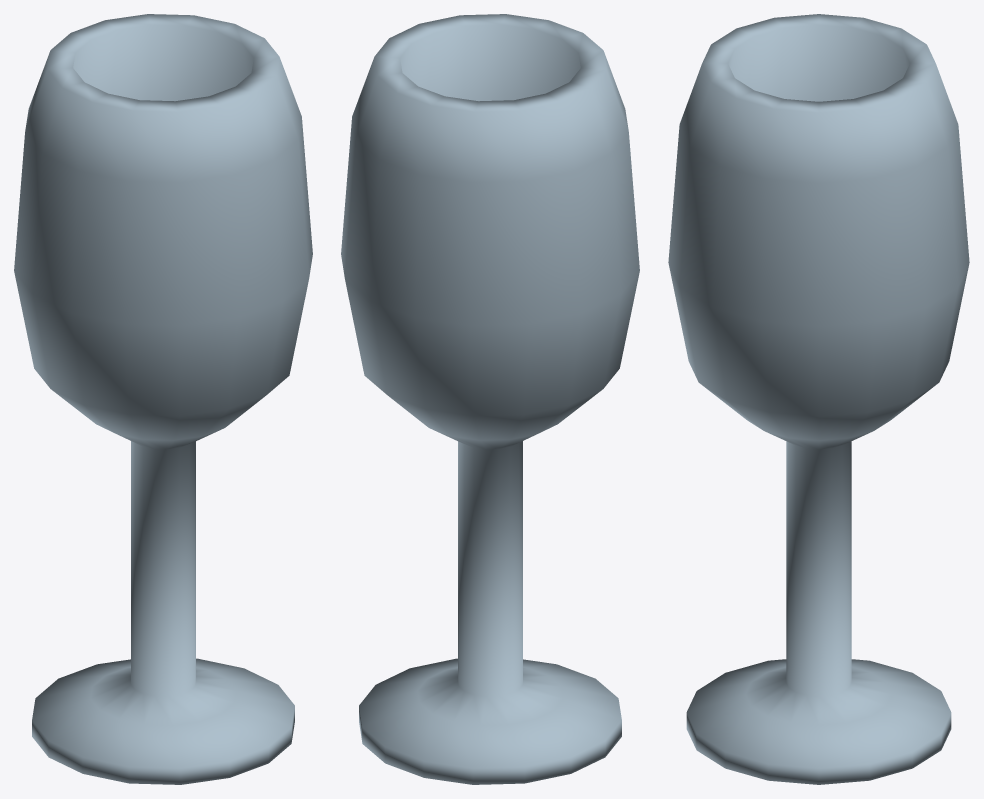
Rendered from champaignFlute.fbx.
The picture shows the model from 3 angles, left to right: view 1: azimuth 30°, elevation 25°; view 2: azimuth 150°, elevation 25°; view 3: azimuth 270°, elevation 25°; orthographic projection.
Parts seen in each view (by area): view 1: Champaign Flute; view 2: Champaign Flute; view 3: Champaign Flute.
Boxes of the visible parts, x1,y1,x2,y2 form: Champaign Flute: (14, 14, 312, 784); Champaign Flute: (341, 14, 639, 784); Champaign Flute: (668, 14, 969, 784).
Bounding box in the file's own units: 4.81 × 4.81 × 11.72.
